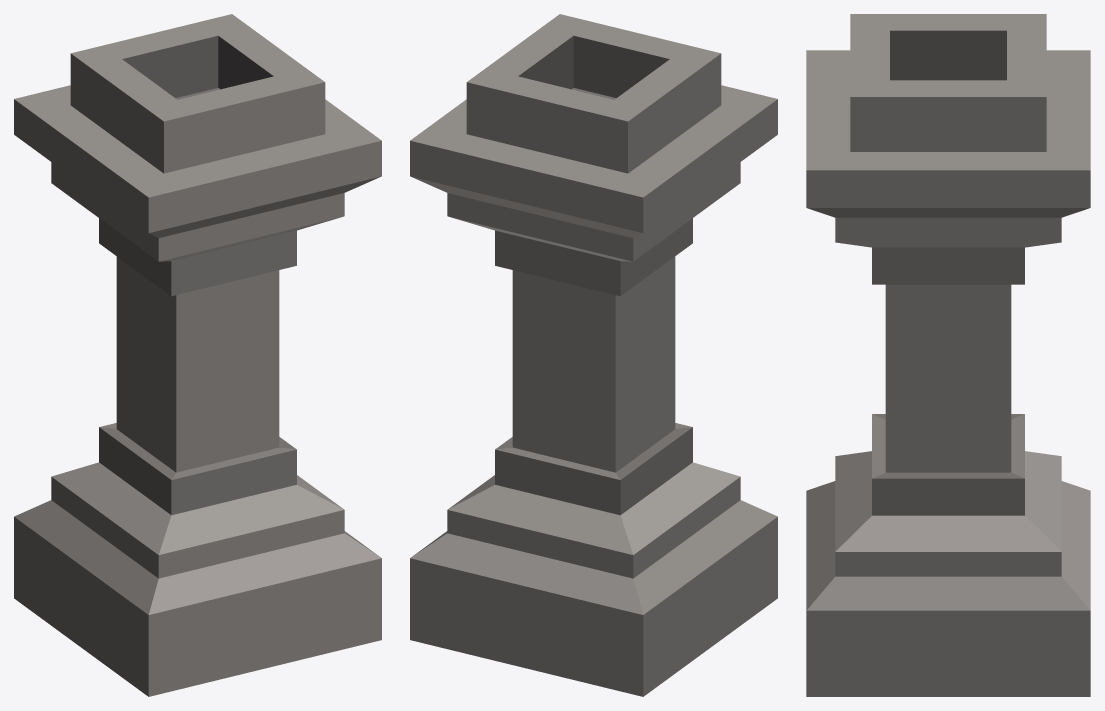
File: SD_Prop_Pedestal_01.fbx
3 renders of one model, left to right at view 1: azimuth 30°, elevation 25°; view 2: azimuth 150°, elevation 25°; view 3: azimuth 270°, elevation 25°, orthographic. The views are drawn at different scales.
Parts seen in each view (by area): view 1: SD_Prop_Pedestal_01; view 2: SD_Prop_Pedestal_01; view 3: SD_Prop_Pedestal_01.
Boxes of the visible parts, <box> form: SD_Prop_Pedestal_01: <box>14,14,381,696</box>; SD_Prop_Pedestal_01: <box>410,14,777,696</box>; SD_Prop_Pedestal_01: <box>806,14,1090,696</box>.
Bounding box in the file's own units: 0.8387 × 1.89 × 0.8387.
